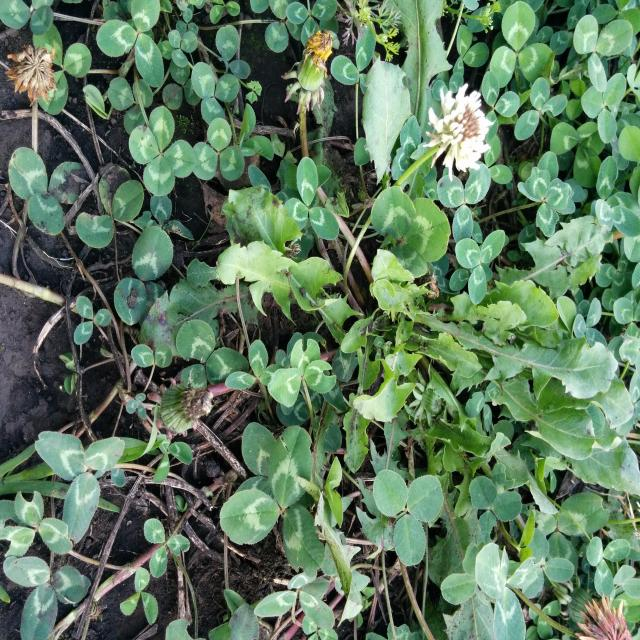Four Leaf Clover: (129, 106, 196, 196)
